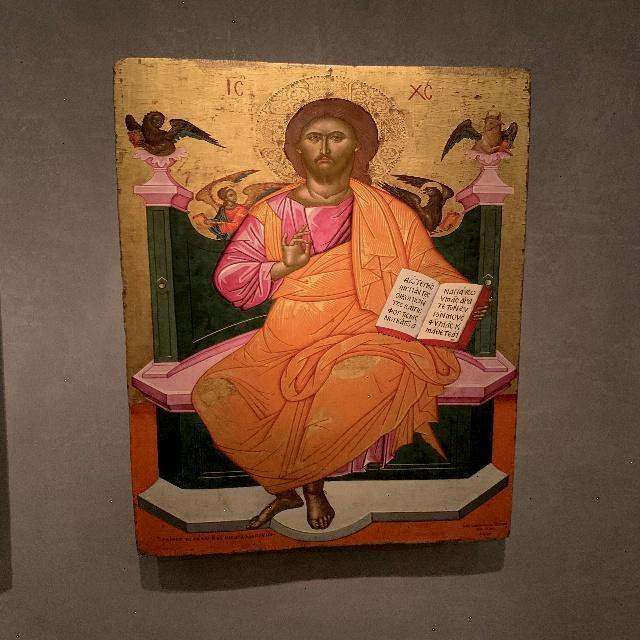angel: (193, 164, 278, 237)
aura: (254, 77, 406, 185)
book: (377, 264, 489, 360)
christ: (196, 76, 470, 531)
eagle: (390, 172, 459, 234)
hand: (274, 226, 316, 287)
lion: (144, 107, 172, 159)
ox: (477, 106, 506, 160)
wing: (203, 164, 268, 206), (440, 117, 476, 170), (167, 120, 221, 154), (501, 121, 526, 159), (123, 110, 144, 152)
